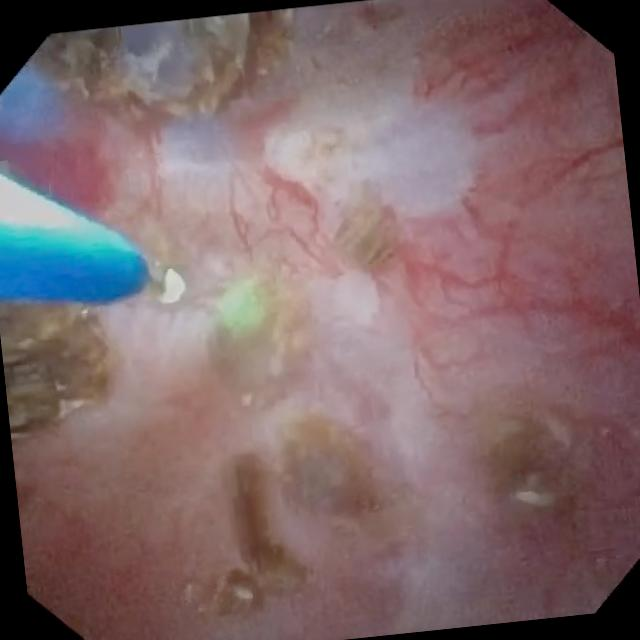laser-fibre: (136, 260, 181, 302)
laser_dot: (217, 278, 265, 328)
stone-new: (35, 10, 289, 116), (0, 304, 108, 439), (473, 397, 583, 509), (208, 276, 303, 394), (279, 411, 380, 518), (223, 452, 287, 578), (333, 183, 397, 270), (208, 568, 263, 614)
